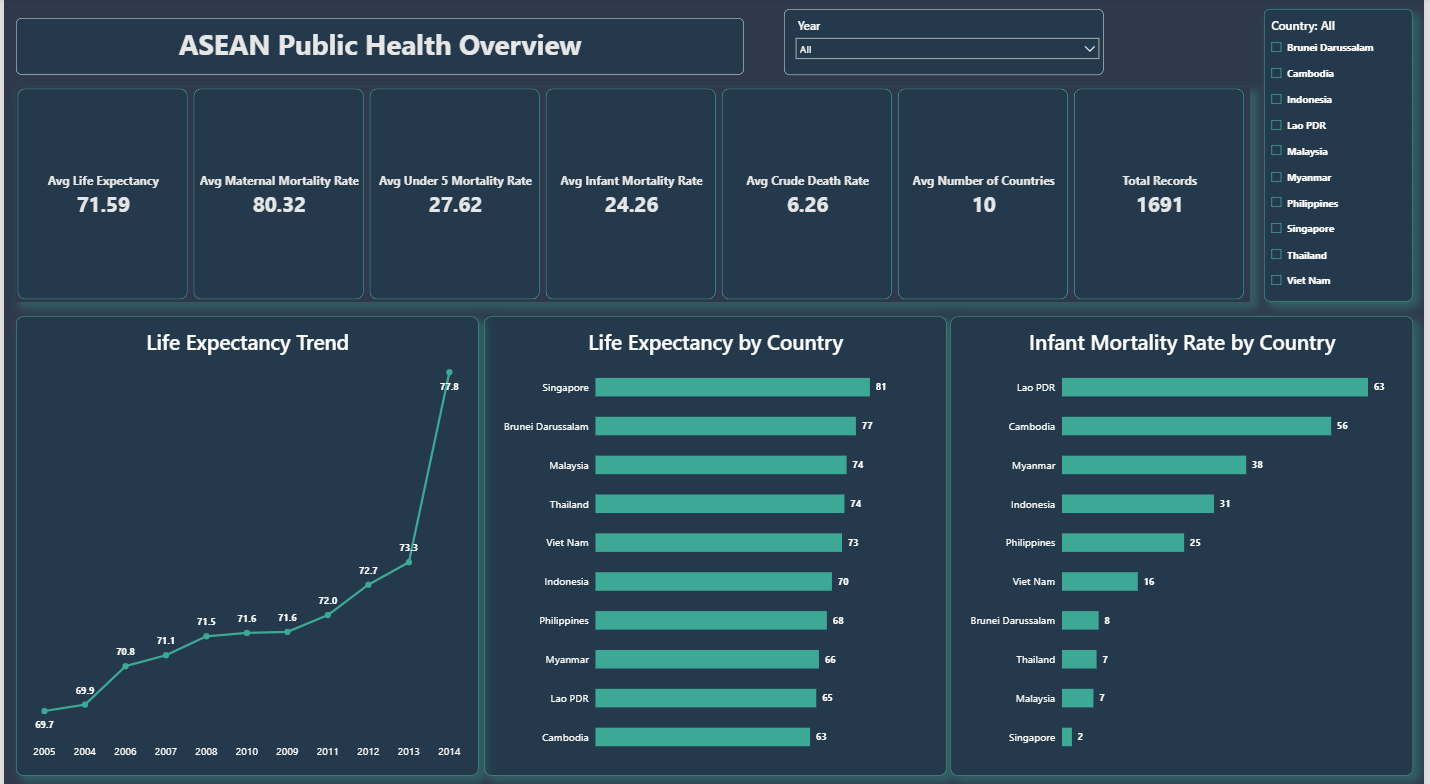

Layout of this report page (visuals, bound fields, positions):
{"tool":"powerbi","page":{"name":"Overview","canvas":[1920,1080],"ordinal":0},"visuals":[{"type":"slicer","fields":{"Values":["Dim_Country.Country"]},"box":[1703.2,16.2,200.7,395.4],"z":0},{"type":"slicer","fields":{"Values":["Dim_Year.Year"]},"box":[1054.3,16.2,431.9,89.2],"z":1000},{"type":"cardVisual","fields":{"Data":["Measure_Table.Life Expectancy","Measure_Table.Maternal Mortality Rate","Measure_Table.Under 5 Mortality Rate","Measure_Table.Infant Mortality Rate","Measure_Table.Crude Death Rate","Measure_Table.Number of Countries","Measure_Table.Total Records"]},"box":[16.2,121.7,1668.7,289.9],"z":3000},{"type":"clusteredBarChart","fields":{"Category":["Dim_Country.Country"],"Y":["Measure_Table.Life Expectancy"]},"box":[647.8,431.9,625,620.4],"z":4000},{"type":"clusteredBarChart","fields":{"Category":["Dim_Country.Country"],"Y":["Measure_Table.Infant Mortality Rate"]},"box":[1279.4,431.9,625,620.4],"z":5000},{"type":"lineChart","title":"Life Expectancy Trend","fields":{"Category":["Fact_Health_Indicators.Year"],"Y":["Measure_Table.Life Expectancy"]},"box":[16.2,431.9,625,620.4],"z":6000},{"type":"textbox","box":[16.2,27.9,984,76.8],"z":7000}]}

Visuals, with their boxes in screenshot pixels (x1, y1, x2, y2), scaled from the page's 1920x1080 canvas onto the 1430x784 screenshot:
slicer - Dim_Country.Country: rect(1269, 12, 1418, 299)
slicer - Dim_Year.Year: rect(785, 12, 1107, 77)
cardVisual - Measure_Table.Life Expectancy x Measure_Table.Maternal Mortality Rate: rect(12, 88, 1255, 299)
clusteredBarChart - Dim_Country.Country x Measure_Table.Life Expectancy: rect(482, 314, 948, 764)
clusteredBarChart - Dim_Country.Country x Measure_Table.Infant Mortality Rate: rect(953, 314, 1418, 764)
"Life Expectancy Trend" lineChart: rect(12, 314, 478, 764)
textbox: rect(12, 20, 745, 76)
